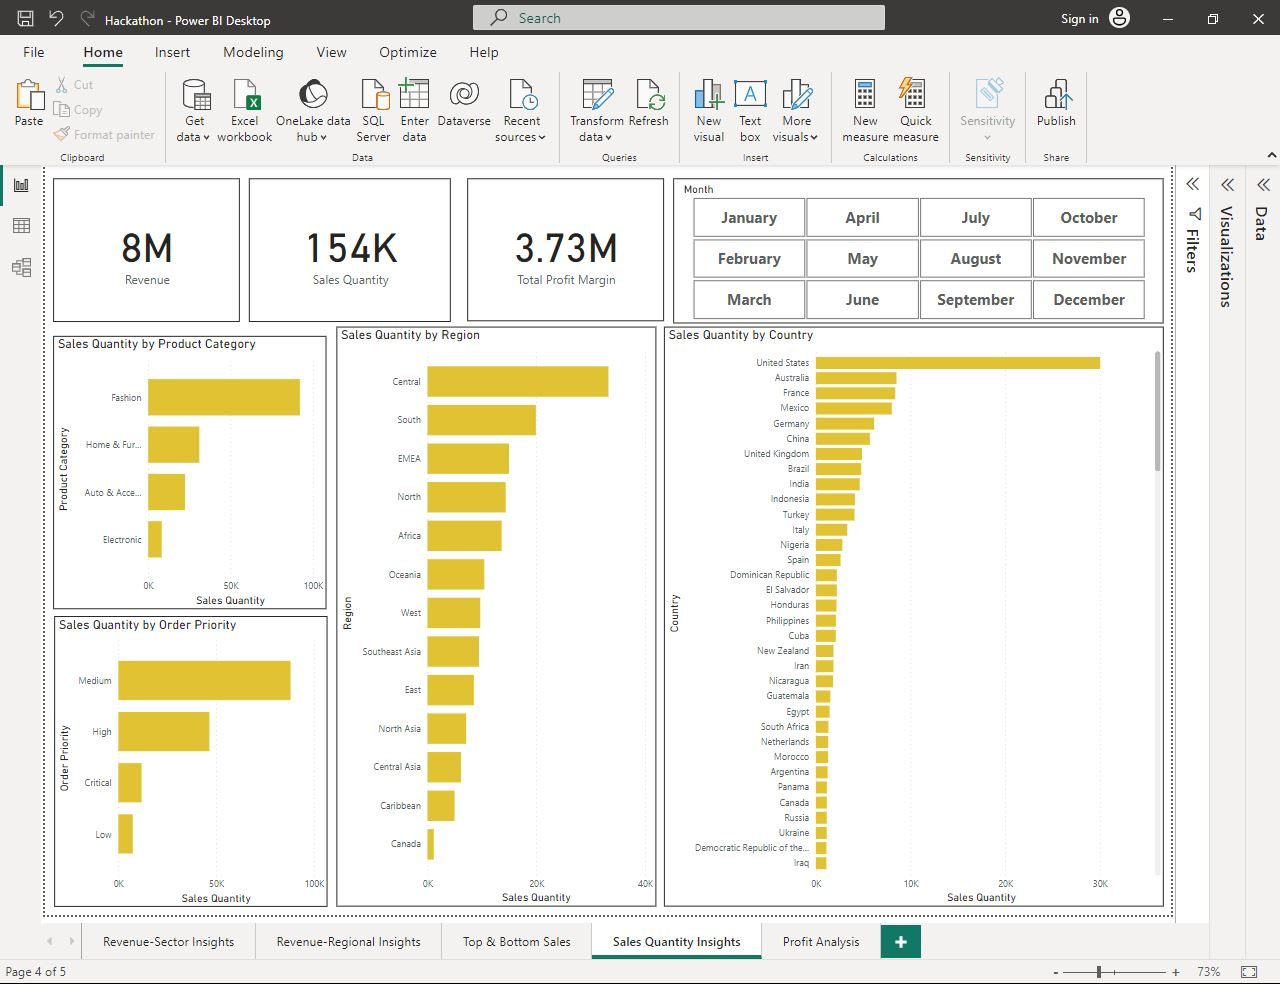

This screenshot's page, from the dashboard's own definition file:
{"tool":"powerbi","page":{"name":"Sales Quantity Insights","canvas":[1500,1000],"ordinal":3},"visuals":[{"type":"barChart","fields":{"Y":["BaseMeasures.Sales Quantity"],"Category":["Sales.Product Category"]},"box":[11,227.9,363.8,363.8],"z":0},{"type":"barChart","fields":{"Y":["BaseMeasures.Sales Quantity"],"Category":["Sales.Country"]},"box":[824.8,215.2,666.1,772.9],"z":1000},{"type":"barChart","fields":{"Y":["BaseMeasures.Sales Quantity"],"Category":["Sales.Region"]},"box":[388,215.2,425.7,772.9],"z":2000},{"type":"card","fields":{"Values":["BaseMeasures.Revenue"]},"box":[11,17.3,248.2,191.7],"z":3000},{"type":"card","fields":{"Values":["BaseMeasures.Sales Quantity"]},"box":[271.8,17.3,268.6,191.7],"z":4000},{"type":"card","fields":{"Values":["BaseMeasures.Total Profit Margin"]},"box":[562.4,17.3,262.4,190.1],"z":5000},{"type":"slicer","title":"Revenue by Months","fields":{"Values":["Sales.Order Date.Variation.Date Hierarchy.Month"]},"box":[837.4,17.3,653.5,193.2],"z":6000},{"type":"barChart","fields":{"Y":["BaseMeasures.Sales Quantity"],"Category":["Sales.Order Priority"]},"box":[12.4,601.3,363.8,387.2],"z":7000}]}

Visuals, with their boxes on the page's 1500x1000 design canvas (x1, y1, x2, y2). These are canvas units, not pixel positions in the 1280x984 screenshot, which may show the page scaled, cropped or inside an application window:
barChart - BaseMeasures.Sales Quantity x Sales.Product Category: x1=11 y1=228 x2=375 y2=592
barChart - BaseMeasures.Sales Quantity x Sales.Country: x1=825 y1=215 x2=1491 y2=988
barChart - BaseMeasures.Sales Quantity x Sales.Region: x1=388 y1=215 x2=814 y2=988
card - BaseMeasures.Revenue: x1=11 y1=17 x2=259 y2=209
card - BaseMeasures.Sales Quantity: x1=272 y1=17 x2=540 y2=209
card - BaseMeasures.Total Profit Margin: x1=562 y1=17 x2=825 y2=207
"Revenue by Months" slicer: x1=837 y1=17 x2=1491 y2=210
barChart - BaseMeasures.Sales Quantity x Sales.Order Priority: x1=12 y1=601 x2=376 y2=988
